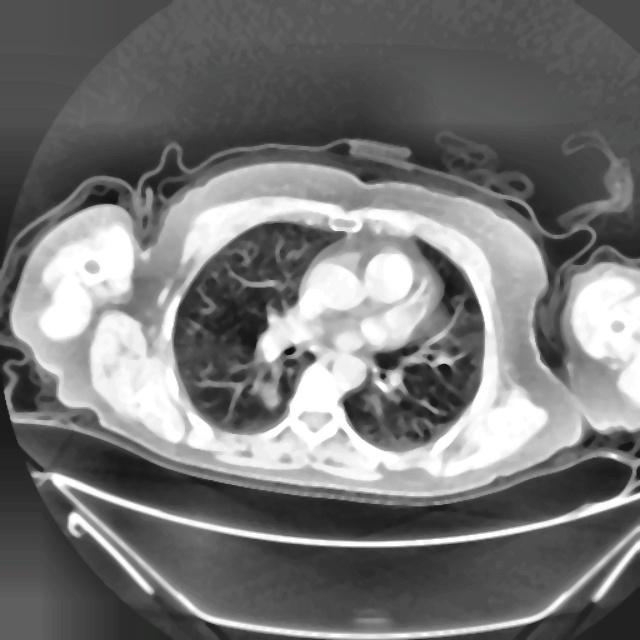covid: (5, 133, 636, 508)
